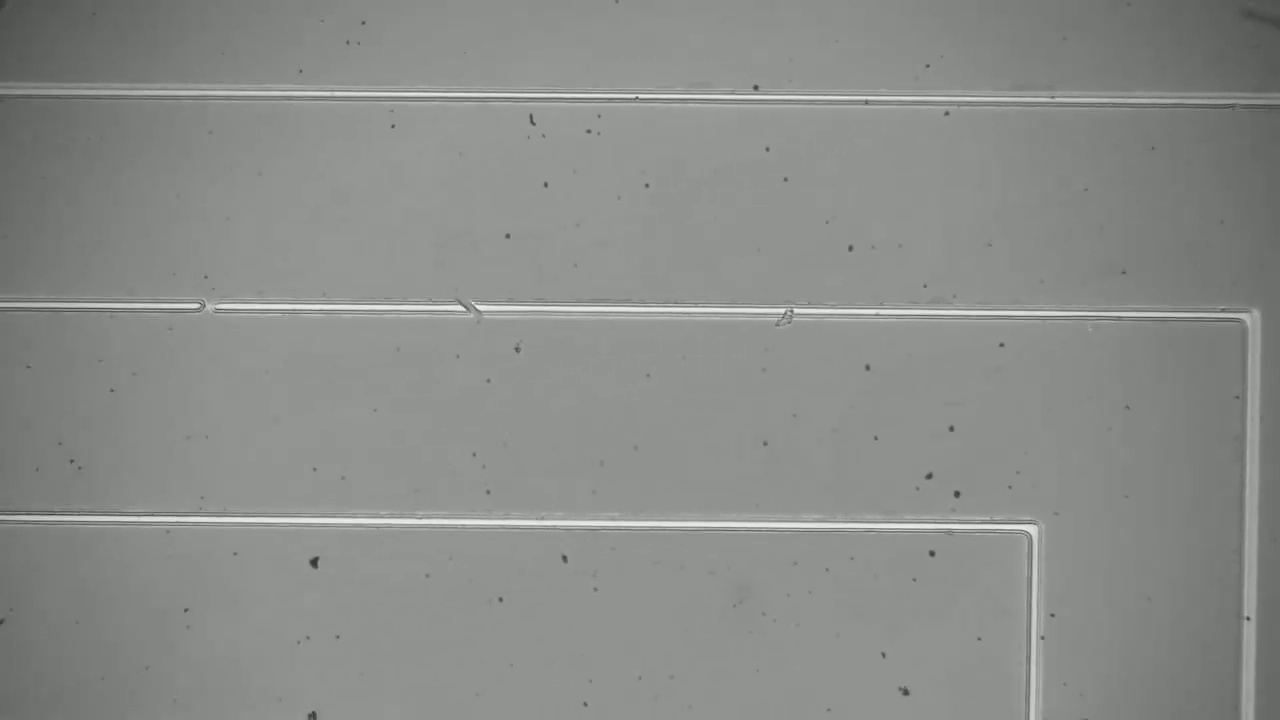open: (450, 287, 497, 325), (185, 291, 227, 325)
stains_enbedded: (761, 295, 808, 337)
